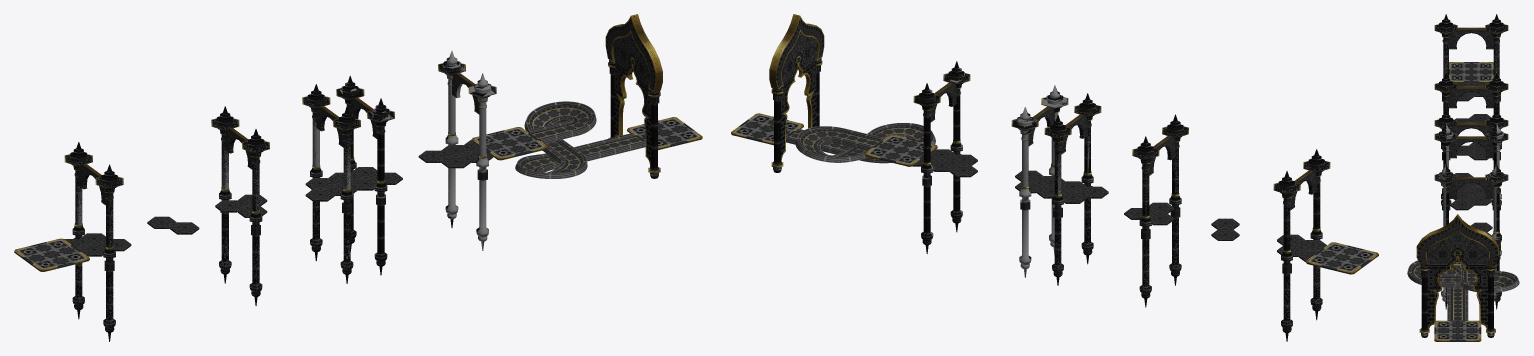
File: NPSpace3.gltf
3 renders of one model, left to right at view 1: azimuth 30°, elevation 25°; view 2: azimuth 150°, elevation 25°; view 3: azimuth 270°, elevation 25°, orthographic. The views are drawn at different scales.
Parts seen in each view (by area): view 1: stg070_k22_Mesh_0008, stg070_k22_Mesh_0007, stg070_k22_Mesh_0000, stg070_k22_Mesh_0018, stg070_k22_Mesh_0011, stg070_k22_Mesh_0004, stg070_o22_Mesh_0003, stg070_k22_Mesh_0023, stg070_k22_Mesh_0024, stg070_k22_Mesh_0013, stg070_o22_Mesh_0004, stg070_k22_Mesh_0005 (+8 smaller); view 2: stg070_k22_Mesh_0008, stg070_k22_Mesh_0000, stg070_k22_Mesh_0007, stg070_k22_Mesh_0011, stg070_k22_Mesh_0018, stg070_k22_Mesh_0023, stg070_o22_Mesh_0003, stg070_k22_Mesh_0024, stg070_k22_Mesh_0013, stg070_o22_Mesh_0004, stg070_k22_Mesh_0004, stg070_k22_Mesh_0005 (+6 smaller); view 3: stg070_k22_Mesh_0023, stg070_k22_Mesh_0000, stg070_k22_Mesh_0007, stg070_k22_Mesh_0011, stg070_k22_Mesh_0005, stg070_k22_Mesh_0018, stg070_k22_Mesh_0010, stg070_o22_Mesh_0003, stg070_k22_Mesh_0024, stg070_k22_Mesh_0008, stg070_o22_Mesh_0004, stg070_k22_Mesh_0019 (+12 smaller).
Part boxes in pixels (<box>): stg070_k22_Mesh_0008: <box>72,86,479,320</box>; stg070_k22_Mesh_0007: <box>66,51,495,327</box>; stg070_k22_Mesh_0000: <box>64,139,493,256</box>; stg070_k22_Mesh_0018: <box>515,101,645,178</box>; stg070_k22_Mesh_0011: <box>70,61,491,328</box>; stg070_k22_Mesh_0004: <box>523,108,641,173</box>; stg070_o22_Mesh_0003: <box>605,14,662,173</box>; stg070_k22_Mesh_0023: <box>78,74,479,205</box>; stg070_k22_Mesh_0024: <box>65,63,495,189</box>; stg070_k22_Mesh_0013: <box>73,53,482,341</box>; stg070_o22_Mesh_0004: <box>64,63,496,249</box>; stg070_k22_Mesh_0005: <box>606,18,655,116</box>; stg070_k22_Mesh_0008: <box>921,95,1322,321</box>; stg070_k22_Mesh_0000: <box>913,149,1326,262</box>; stg070_k22_Mesh_0007: <box>915,64,1328,327</box>; stg070_k22_Mesh_0011: <box>919,71,1324,328</box>; stg070_k22_Mesh_0018: <box>786,123,935,163</box>; stg070_k22_Mesh_0023: <box>930,83,1316,210</box>; stg070_o22_Mesh_0003: <box>769,14,824,167</box>; stg070_k22_Mesh_0024: <box>914,73,1329,194</box>; stg070_k22_Mesh_0013: <box>922,61,1321,341</box>; stg070_o22_Mesh_0004: <box>913,73,1330,252</box>; stg070_k22_Mesh_0004: <box>790,128,923,157</box>; stg070_k22_Mesh_0005: <box>776,18,823,112</box>; stg070_k22_Mesh_0023: <box>1449,29,1493,198</box>; stg070_k22_Mesh_0000: <box>1450,82,1492,236</box>; stg070_k22_Mesh_0007: <box>1435,25,1507,308</box>; stg070_k22_Mesh_0011: <box>1439,22,1503,298</box>; stg070_k22_Mesh_0005: <box>1417,218,1497,288</box>; stg070_k22_Mesh_0018: <box>1407,260,1519,320</box>; stg070_k22_Mesh_0010: <box>1426,230,1488,264</box>; stg070_o22_Mesh_0003: <box>1416,214,1498,333</box>; stg070_k22_Mesh_0024: <box>1435,24,1507,184</box>; stg070_k22_Mesh_0008: <box>1441,42,1501,292</box>; stg070_o22_Mesh_0004: <box>1434,24,1508,233</box>; stg070_k22_Mesh_0019: <box>1427,249,1487,327</box>.
Size of the model in its own units: 206 by 57.8 by 37.27.
15 materials, 14 textured.
